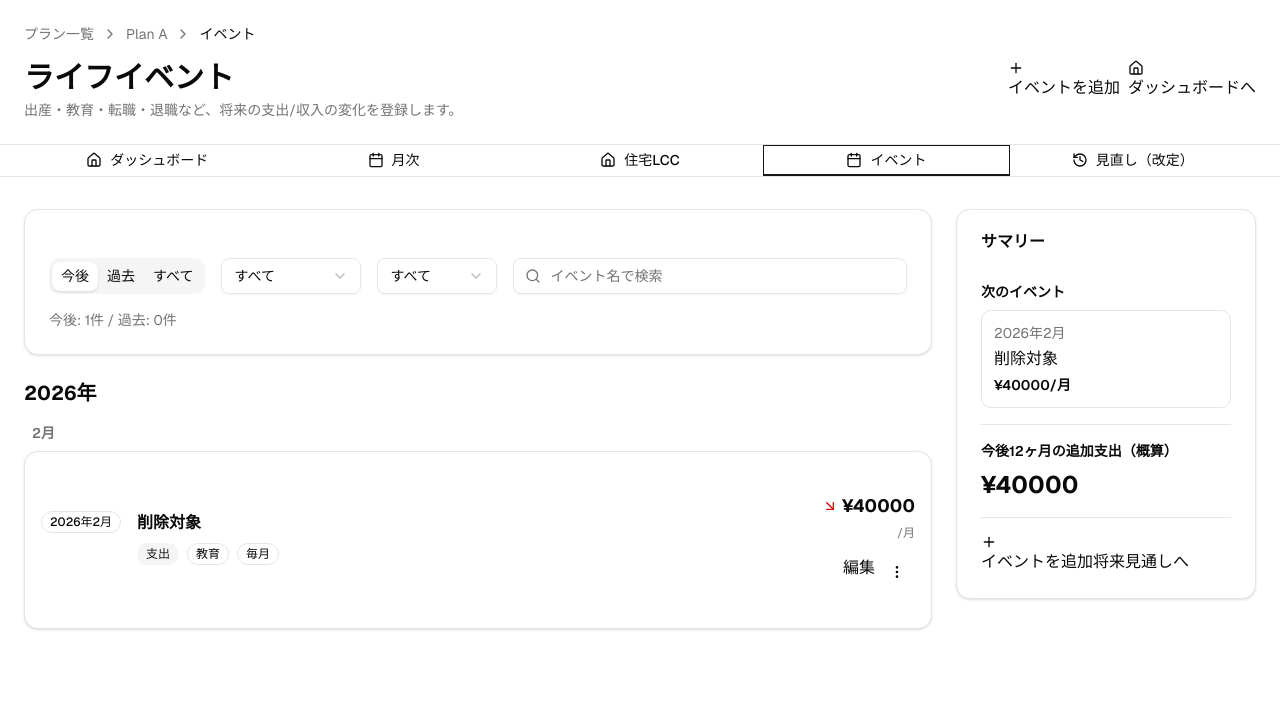
Test: EventsPage › shows not-found toast when delete fails with missing event
The image size is (1280, 720).
Expected: the heading "削除対象" is shown, [137, 511, 201, 535]
Click the button named "メニュー".
click(897, 572)  # box [879, 556, 915, 588]
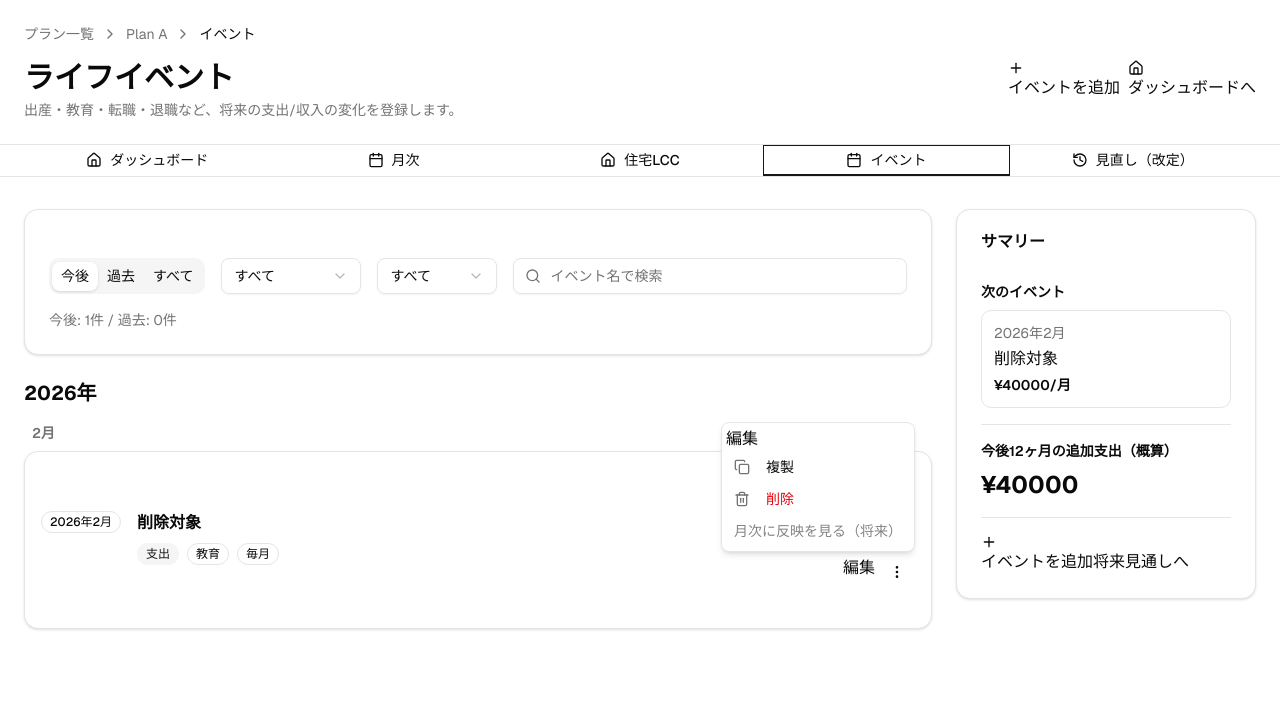
Click the menu item "削除".
click(764, 499)  # box [734, 490, 794, 508]
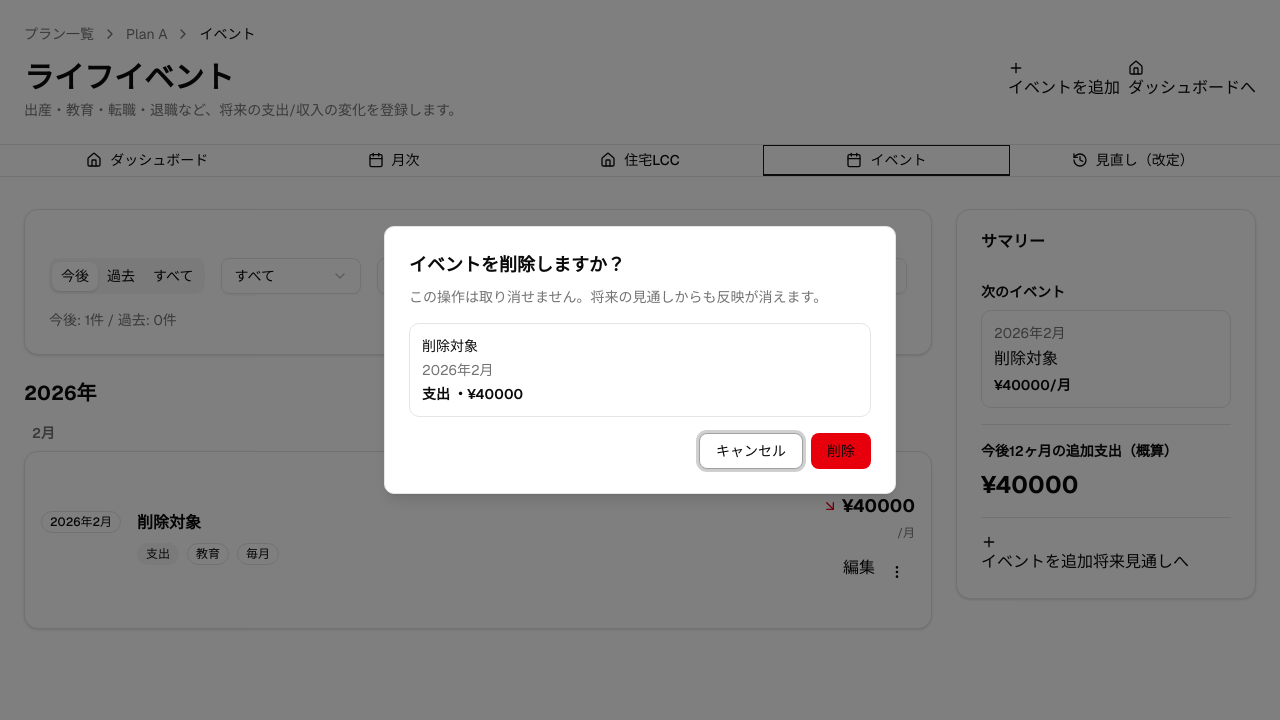
Click the button "削除".
click(841, 451)  # box [811, 433, 871, 469]
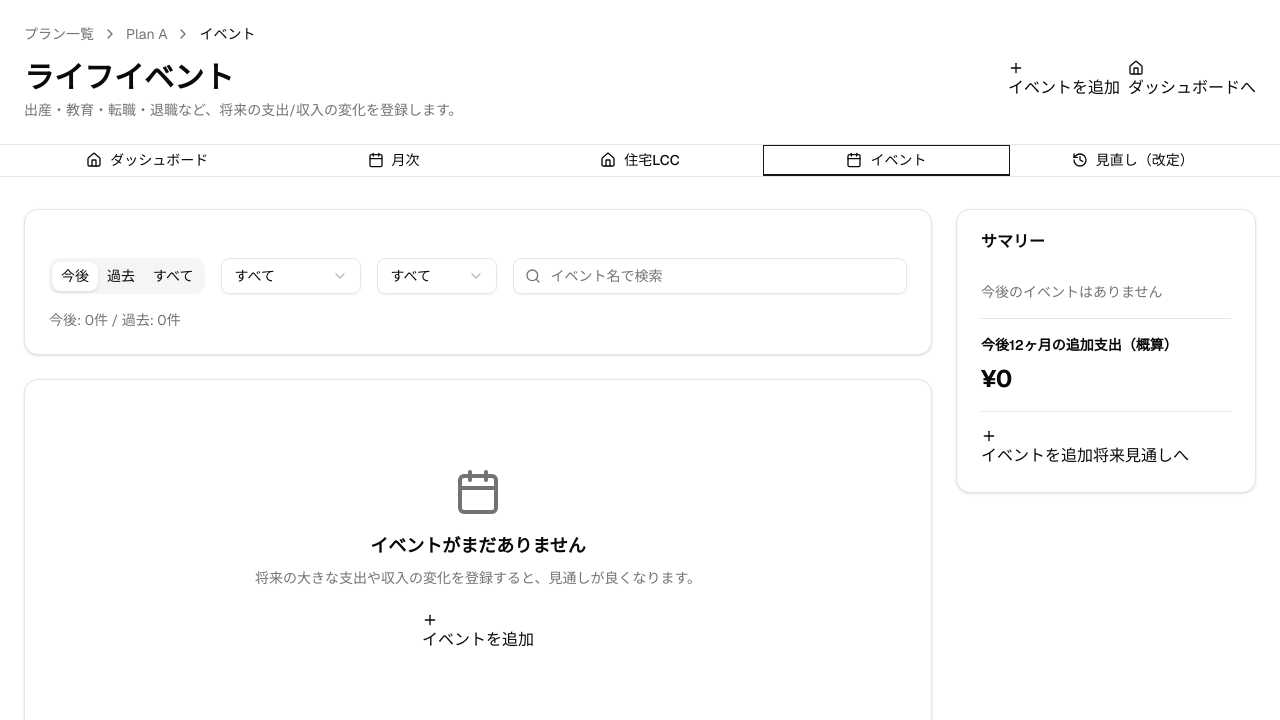
Expected: no headings "削除対象" are shown
